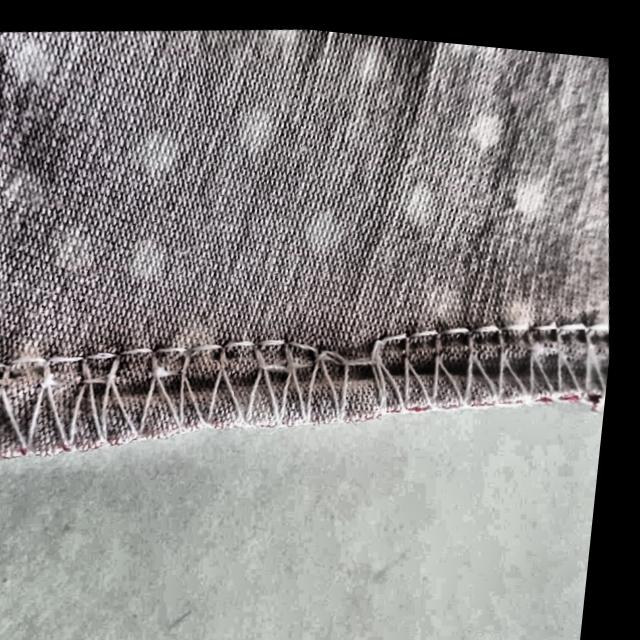Stitch: (247, 269, 463, 424)
